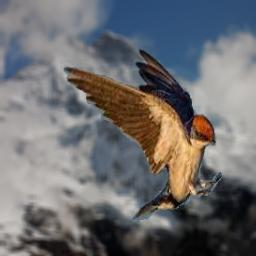Swallow: (60, 48, 222, 234)
